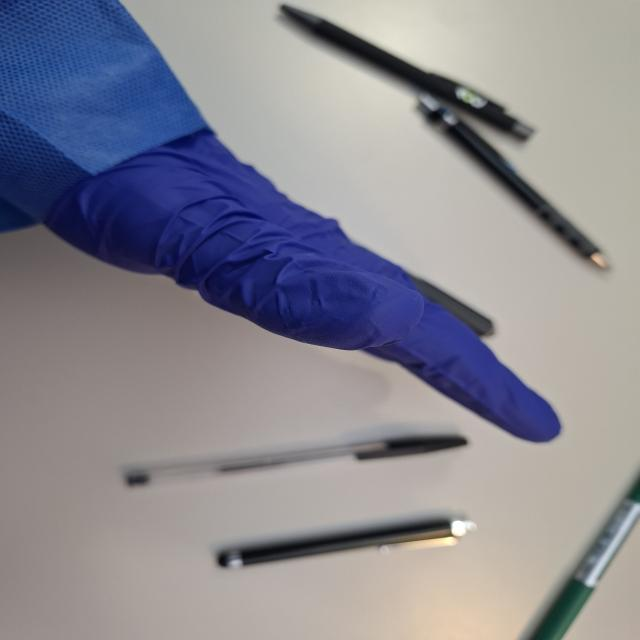glove_on: (42, 117, 567, 448)
